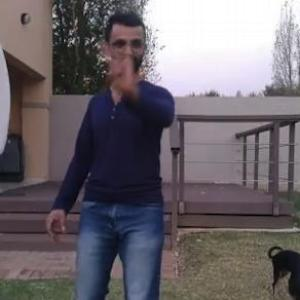takeoff-hand: (100, 40, 145, 97)
